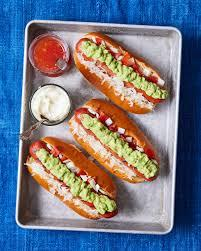Completos: (25, 139, 114, 226), (74, 32, 166, 114), (71, 101, 154, 189)
